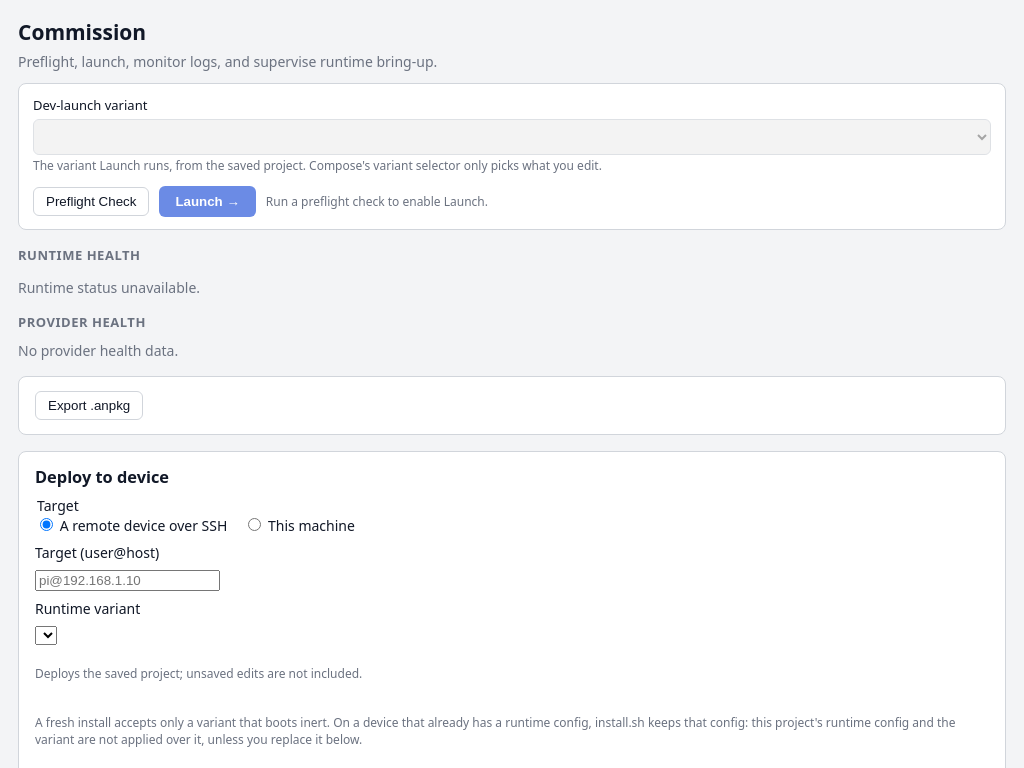
Test: Commission.svelte — the installed runtime service (wb#581) › can be cancelled, and posts nothing
The image size is (1024, 768).
Type "pi@rig" into the field labelled "Target (user@host)" at (128, 580), box [35, 570, 220, 591]
(page scrolled)
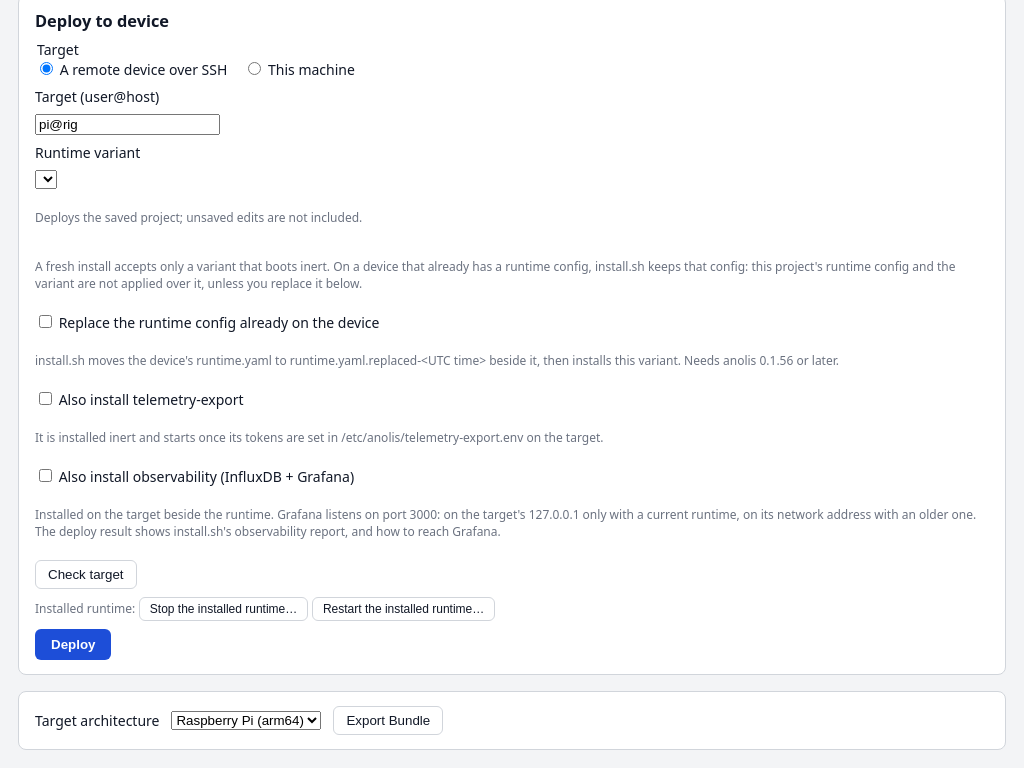
Click the button "Restart the installed runtime…" at (404, 609), box [312, 597, 495, 621]
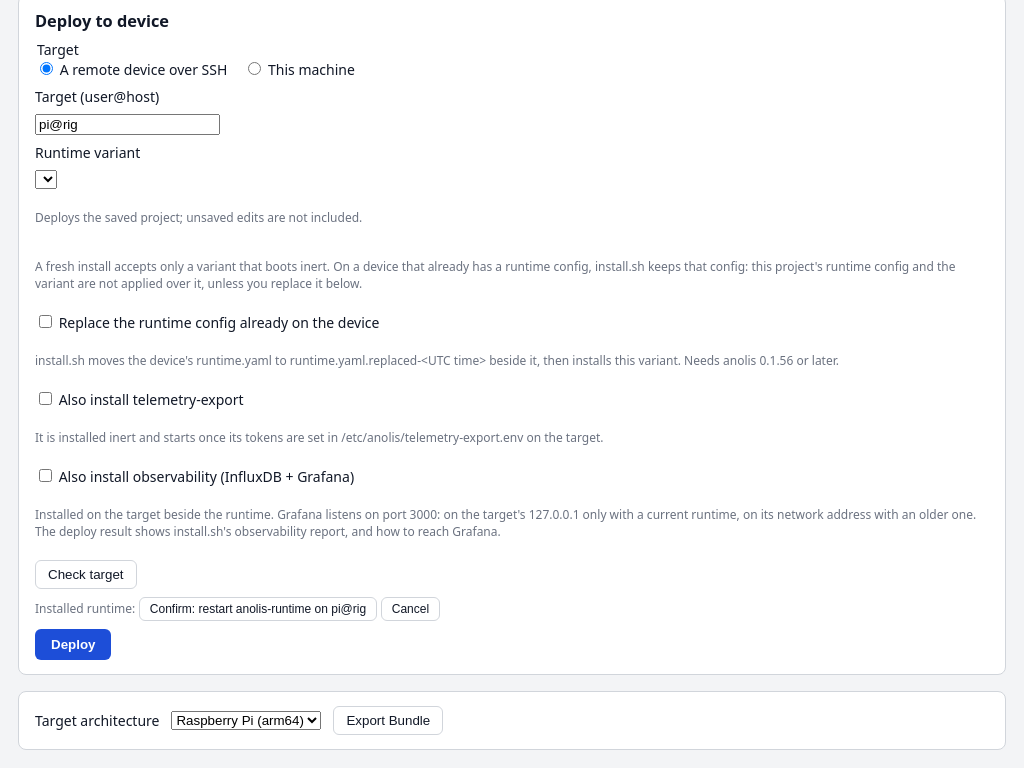
Click the button "Cancel" at (410, 609), box [381, 597, 440, 621]
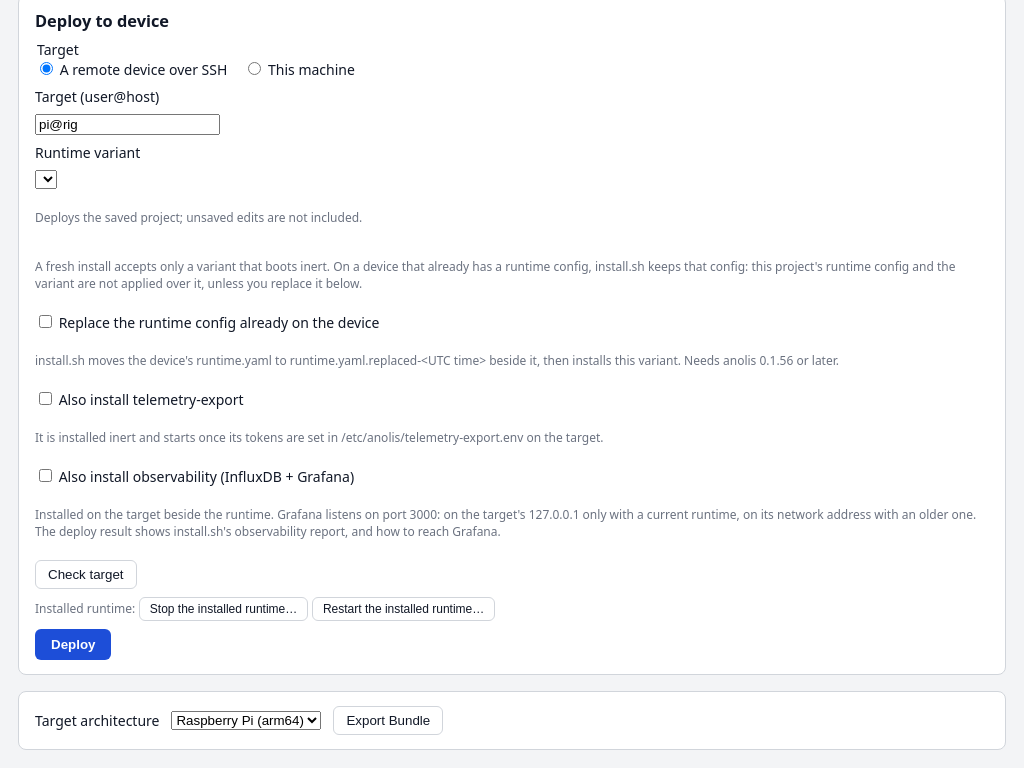
Check: the button "Restart the installed runtime…" is shown, box [312, 597, 495, 621]
